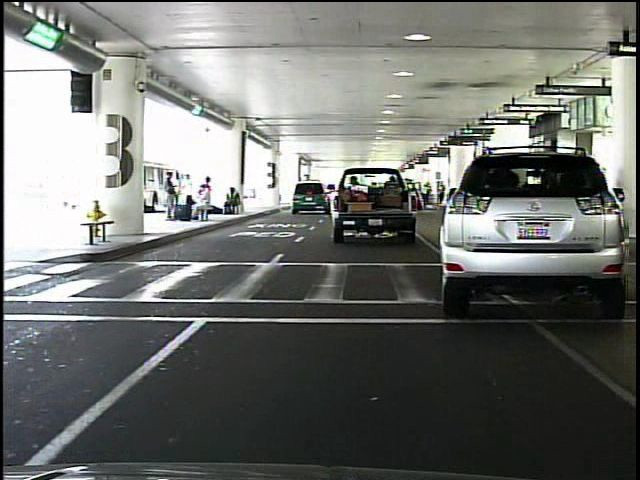person: (162, 170, 182, 222)
